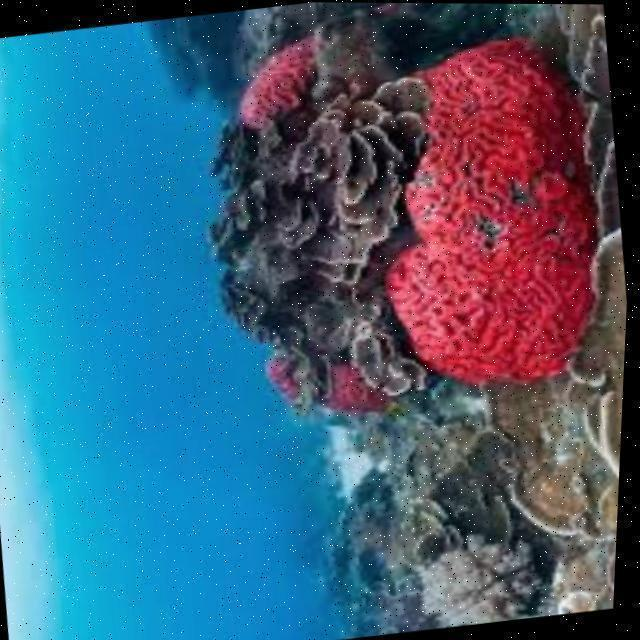Dead Coral: (215, 127, 386, 344)
Healthy Coral: (399, 3, 616, 399), (235, 45, 329, 123)
